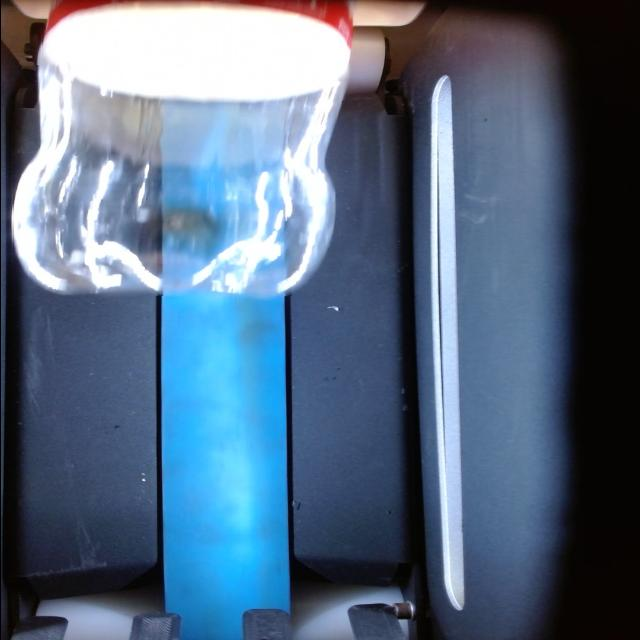bottom: (12, 65, 340, 296)
label: (41, 0, 351, 101)
